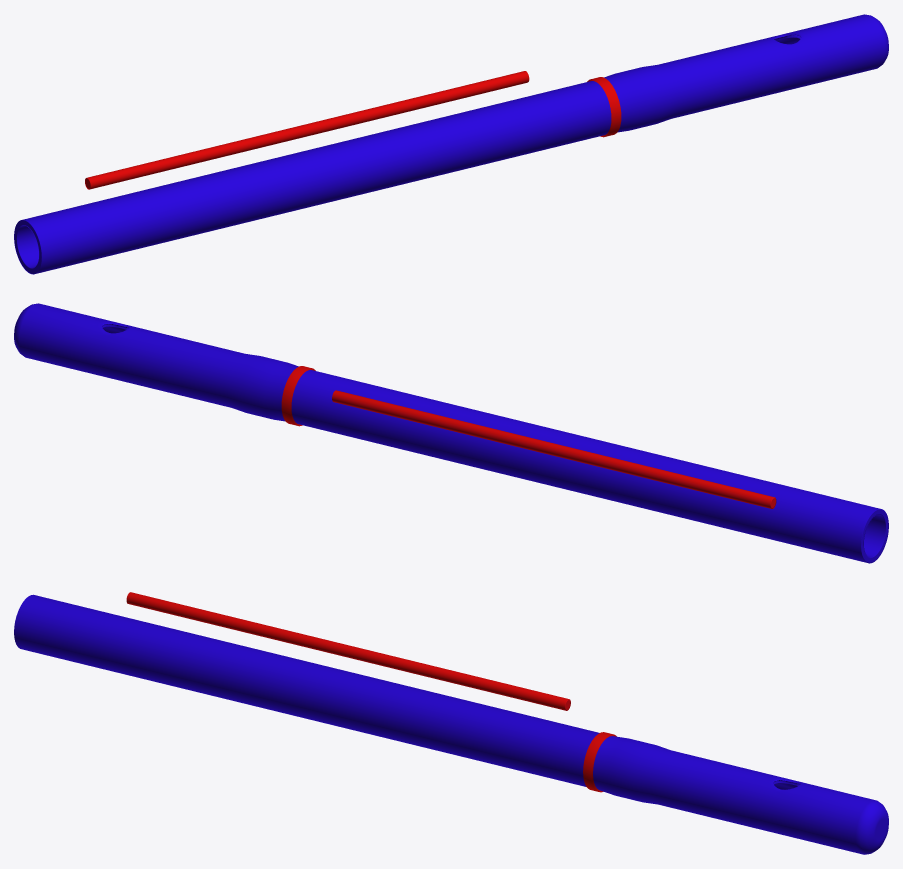
The model's file is FluteA.fbx.
3 views of the same model, one above another, from view 1: azimuth 30°, elevation 25°; view 2: azimuth 150°, elevation 25°; view 3: azimuth 330°, elevation 25° (orthographic).
Parts seen in each view (by area): view 1: FluteBody; view 2: FluteBody; view 3: FluteBody.
Boxes of the visible parts, x1,y1,x2,y2 form: FluteBody: (14, 14, 888, 274); FluteBody: (14, 303, 888, 563); FluteBody: (14, 592, 888, 854).
Bounding box in the file's own units: 230 × 15.76 × 18.15.
